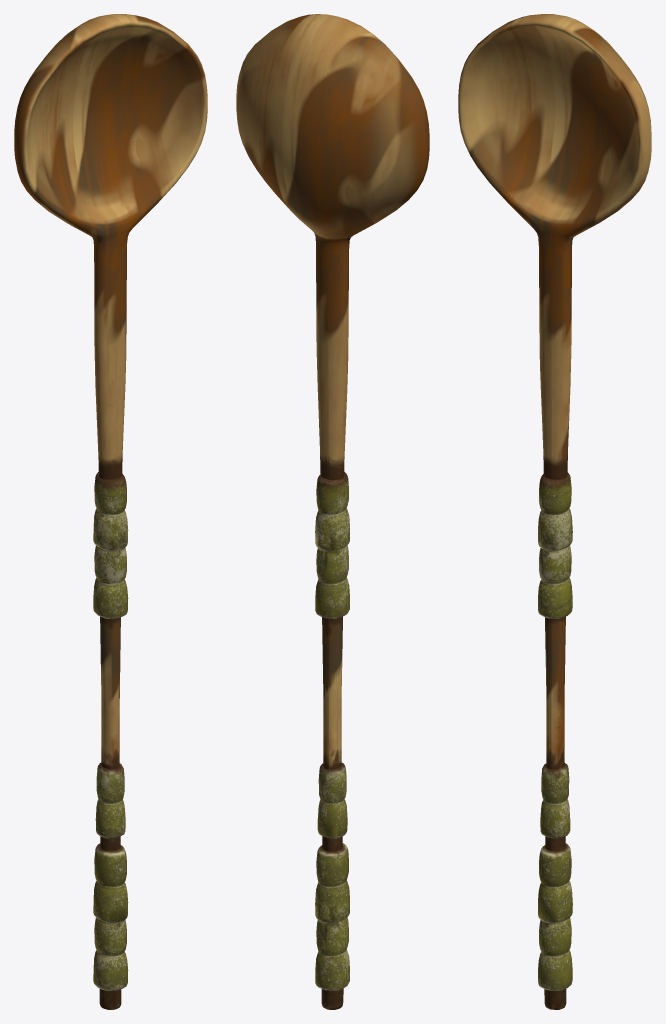
Rendered from Ladle.fbx.
3 renders of one model, left to right at view 1: azimuth 30°, elevation 25°; view 2: azimuth 150°, elevation 25°; view 3: azimuth 330°, elevation 25°, orthographic.
Visible parts, largest first — view 1: LadleL; view 2: LadleL; view 3: LadleL.
Boxes of the visible parts, x1,y1,x2,y2 form: LadleL: (14, 14, 207, 1009); LadleL: (236, 14, 429, 1009); LadleL: (458, 14, 651, 1009).
Bounding box in the file's own units: 24.69 × 124 × 9.51.
